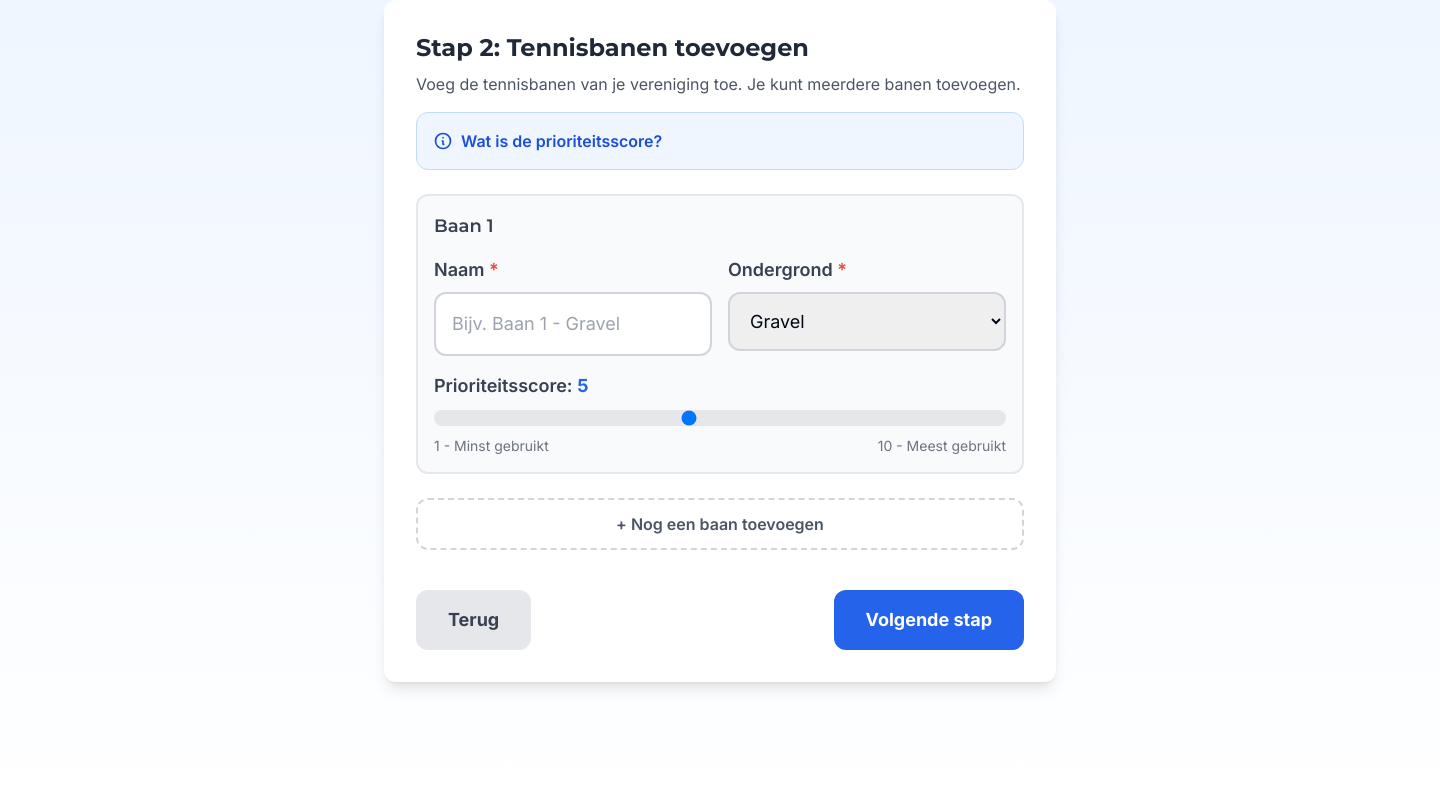
CourtsStep › Rendering › should render additional court inputs with associated labels when added
Click the button "+ Nog een baan toevoegen". click: (720, 524)
box: x1=416 y1=498 x2=1024 y2=550
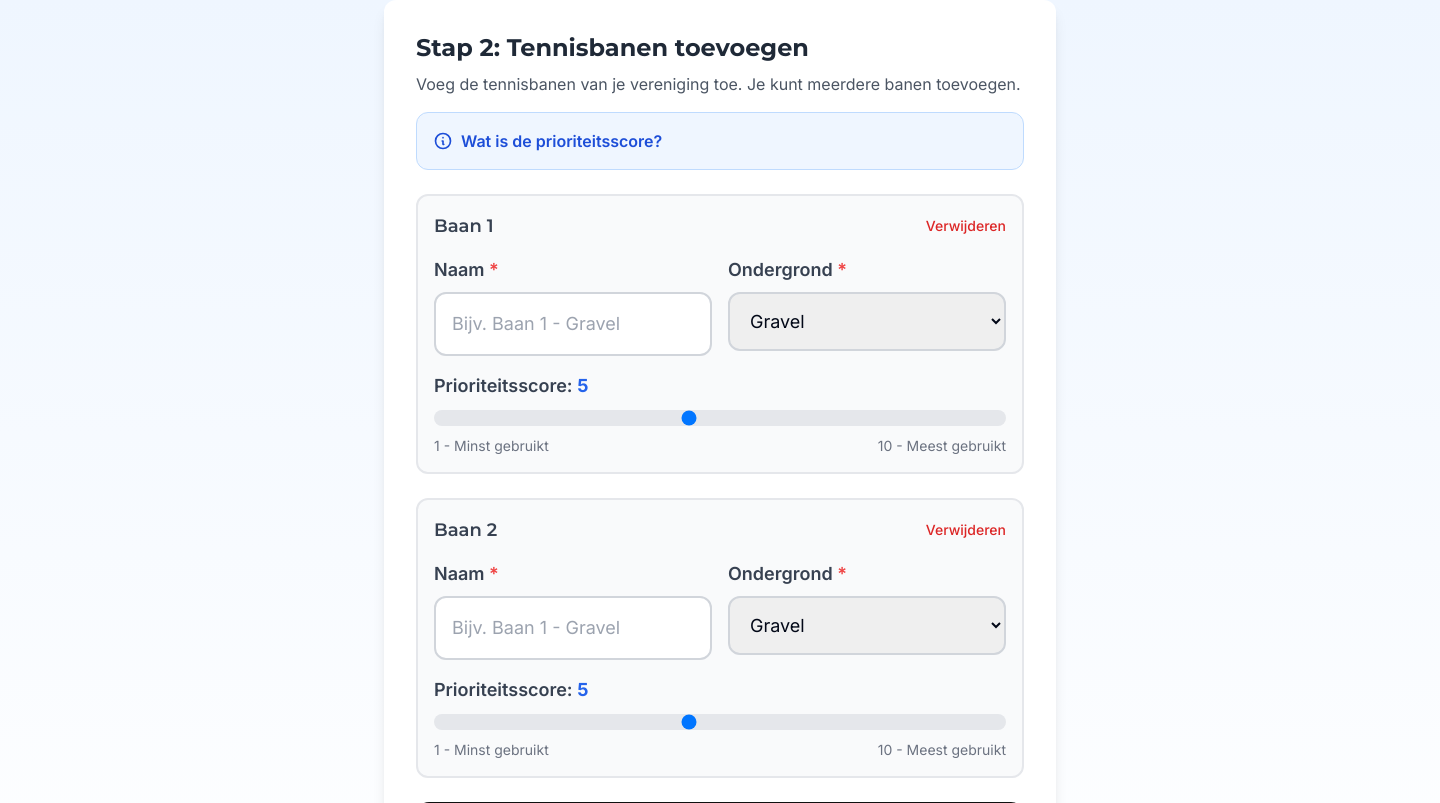
Expected: the 2nd field labelled "Naam *" is shown, x1=434 y1=596 x2=712 y2=660
Expected: the 2nd dropdown labelled "Ondergrond *" is shown, x1=728 y1=596 x2=1006 y2=655
